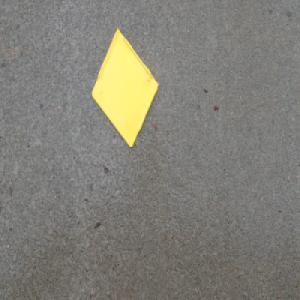PlasticPart: (91, 27, 160, 148)
